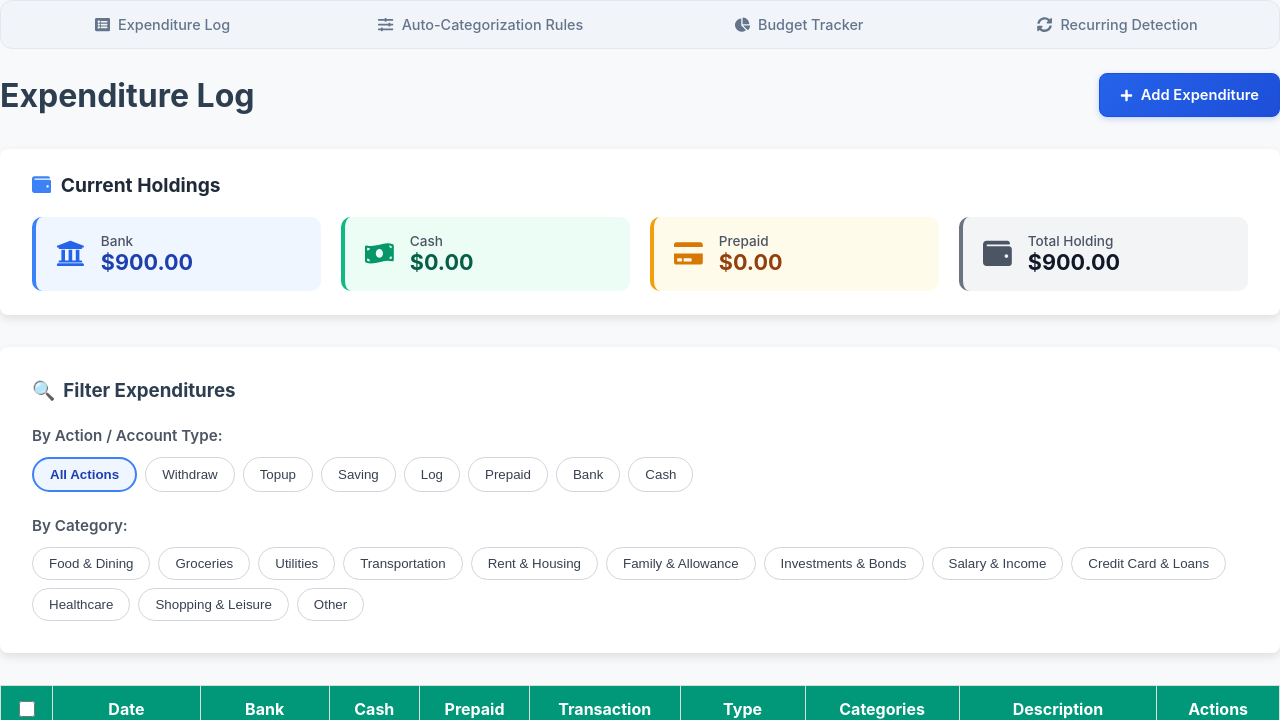
Test case: ExpenditureLogPage Bulk Actions [GAP-008] › 6. clears selection when Deselect All is clicked
Click the checkbox named "select all expenditures on this page": (27, 709) x1=19 y1=701 x2=35 y2=717
(page scrolled)
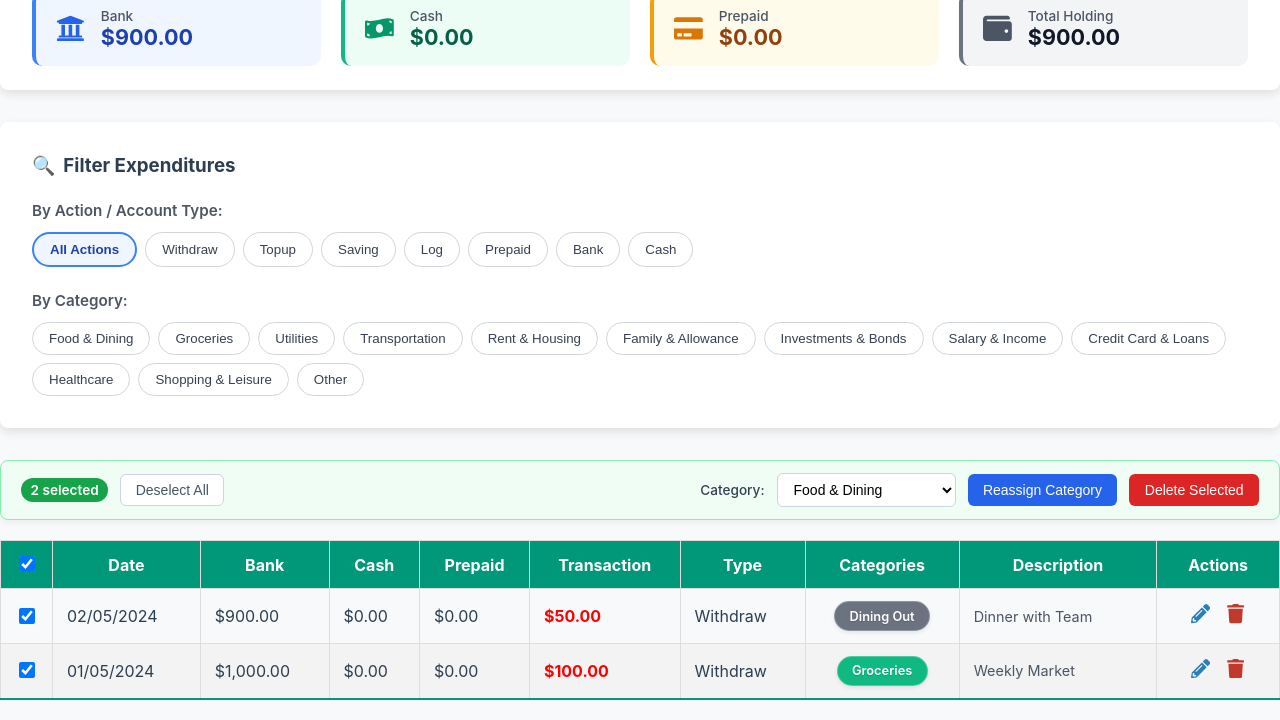
expect the text "2 selected" is shown: met, box x1=21 y1=478 x2=108 y2=502
// Click Deselect All
Click the button "Deselect All": (172, 490) x1=120 y1=474 x2=224 y2=506
(page scrolled)
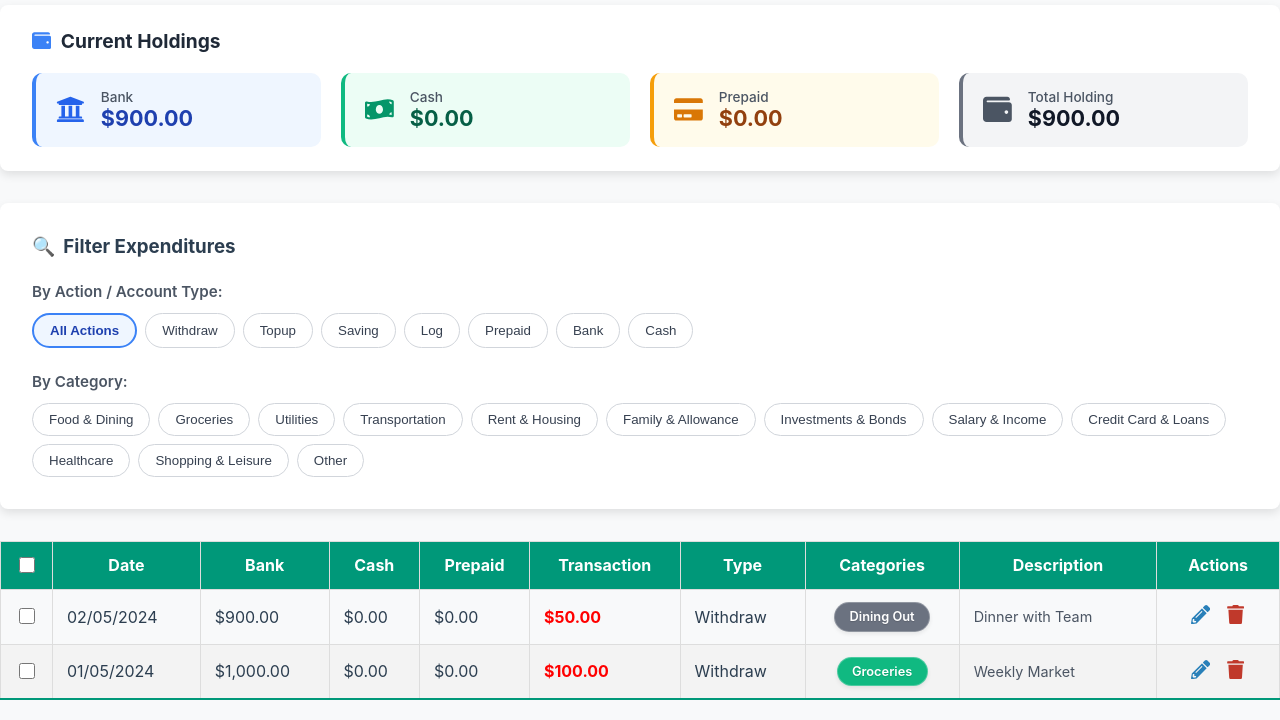
expect the checkbox named "select transaction" is not checked: met, box x1=19 y1=608 x2=35 y2=624
